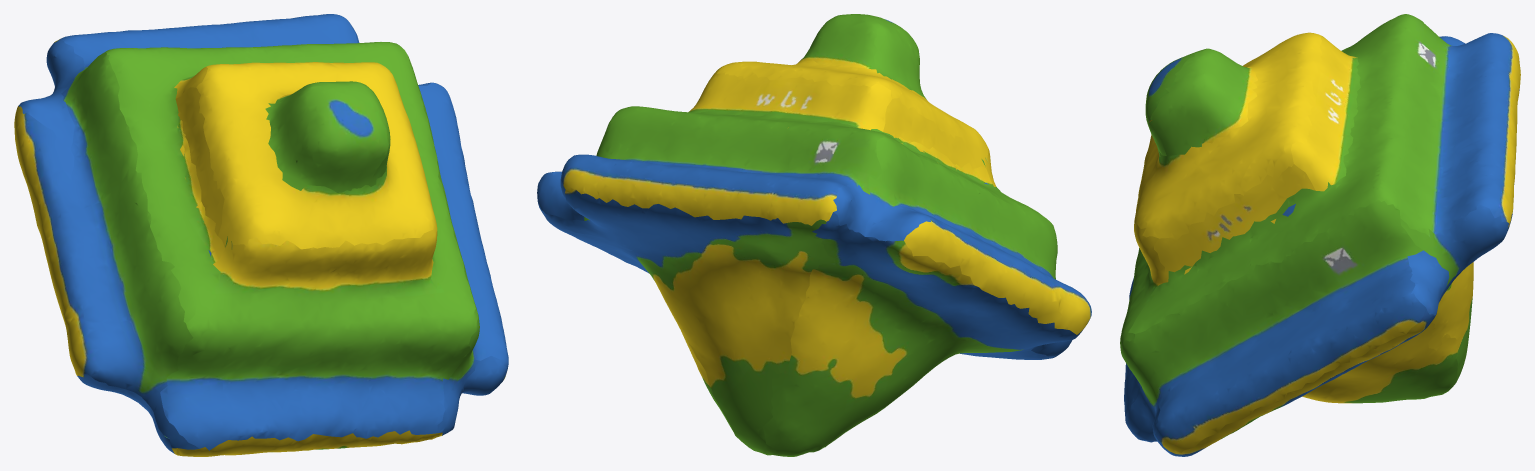
File: deck3.glb
3 renders of one model, left to right at view 1: azimuth 30°, elevation 25°; view 2: azimuth 150°, elevation 25°; view 3: azimuth 270°, elevation 25°, orthographic.
Parts seen in each view (by area): view 1: geometry_0; view 2: geometry_0; view 3: geometry_0.
Part boxes in pixels (left/top/right/bottom): geometry_0: left=14, top=14, right=508, bottom=456; geometry_0: left=537, top=14, right=1091, bottom=456; geometry_0: left=1120, top=14, right=1520, bottom=456.
Bounding box in the file's own units: 1.03 × 0.7345 × 0.7823.
Materials: 1 (1 with a texture image).
